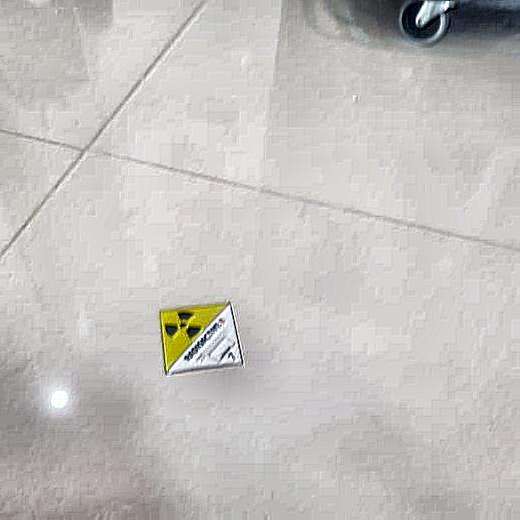radioactive: (163, 303, 239, 374)
